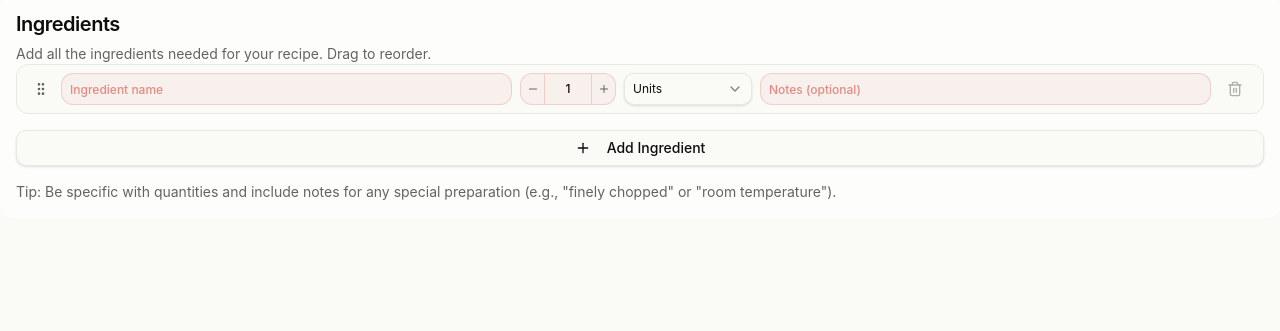
Scenario: IngredientsStep › Adding ingredients › should add new ingredient when Add Ingredient button is clicked
The image size is (1280, 331).
Expected: the field named "ingredient 1 name" is shown, [61,73,512,105]
# Click add button
Click the button "Add Ingredient" at (640, 148), box [16,130,1264,166]
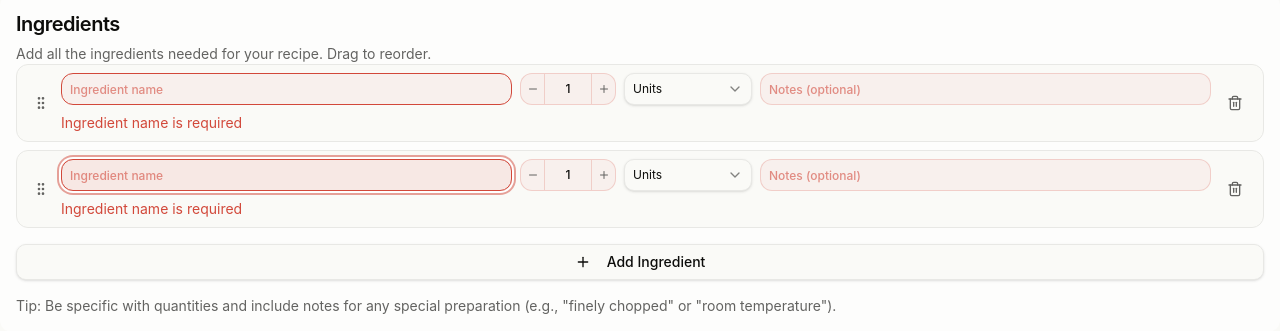
Expected: the field named "ingredient 1 name" is shown, [61,73,512,105]
Result: the field named "ingredient 2 name" is shown at [61,159,512,191]
